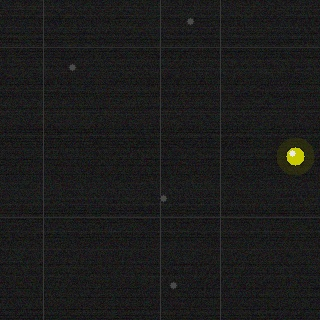yellow_warning: (284, 145, 306, 167)
